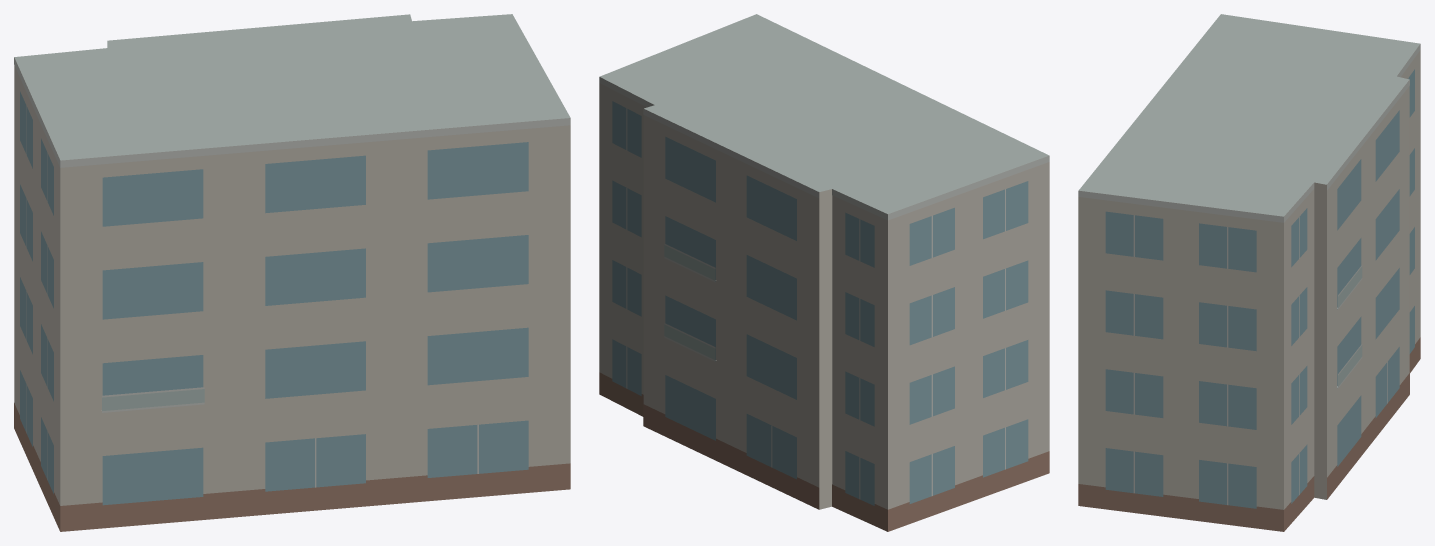
Rendered from survey-upis-32961077.glb.
3 renders of one model, left to right at view 1: azimuth 30°, elevation 25°; view 2: azimuth 150°, elevation 25°; view 3: azimuth 270°, elevation 25°, orthographic. The views are drawn at different scales.
Visible parts, largest first — view 1: survey-upis-32961077.tmp; view 2: survey-upis-32961077.tmp; view 3: survey-upis-32961077.tmp.
Boxes of the visible parts, x1,y1,x2,y2 form: survey-upis-32961077.tmp: [14, 14, 570, 531]; survey-upis-32961077.tmp: [599, 14, 1049, 531]; survey-upis-32961077.tmp: [1078, 14, 1420, 531].
Size of the model in its own units: 17.11 by 12.4 by 12.21.
